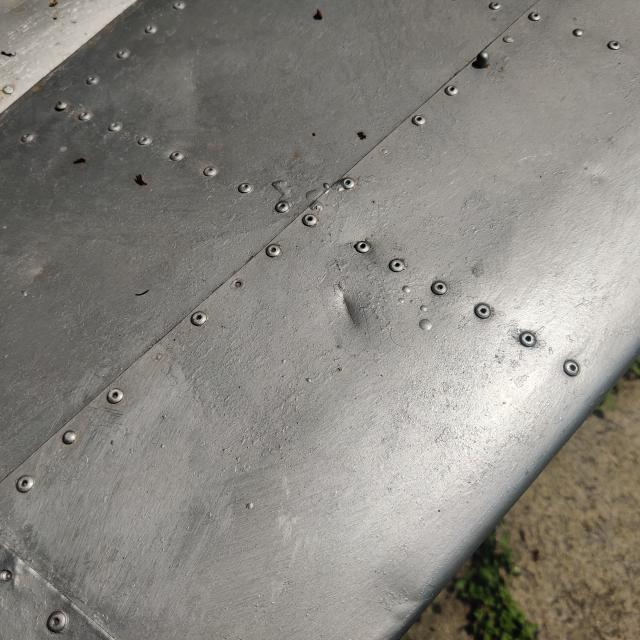dent: (305, 262, 403, 363)
